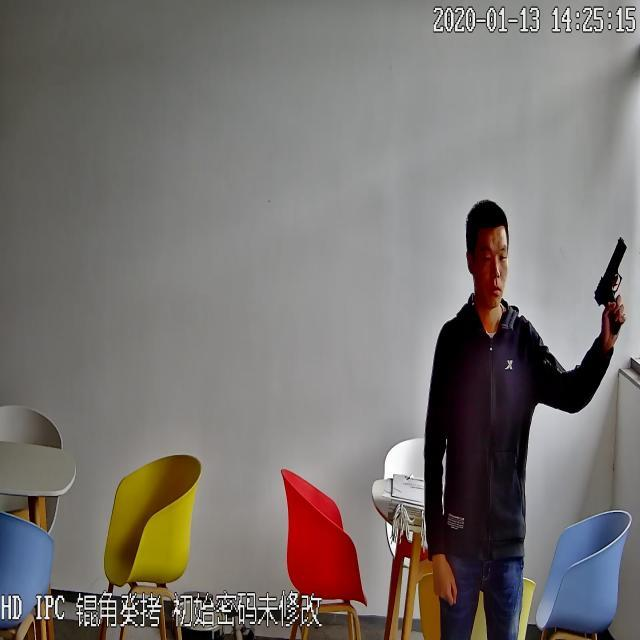gun-knife-thesis - v11 Yolov5 augmented: (590, 229, 627, 329)
